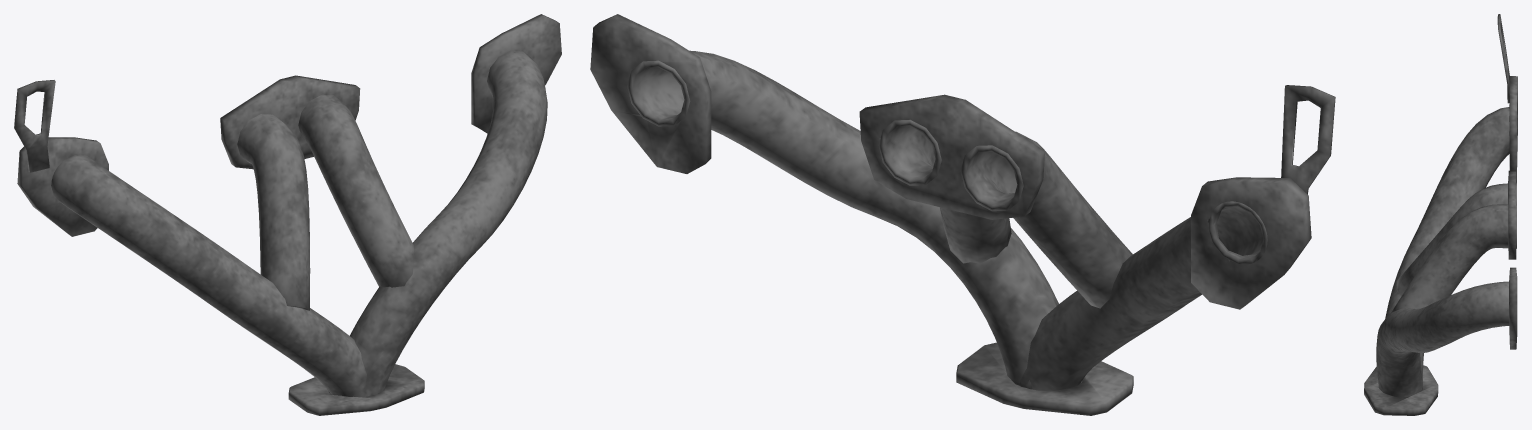
The model's file is exhaust-header.fbx.
3 renders of one model, left to right at view 1: azimuth 30°, elevation 25°; view 2: azimuth 150°, elevation 25°; view 3: azimuth 270°, elevation 25°, orthographic. The views are drawn at different scales.
Parts seen in each view (by area): view 1: exhaust-header; view 2: exhaust-header; view 3: exhaust-header.
Part boxes in pixels (x1=…): exhaust-header: x1=14, y1=14, x2=561, y2=415; exhaust-header: x1=590, y1=14, x2=1335, y2=415; exhaust-header: x1=1364, y1=14, x2=1517, y2=415.
Size of the model in its own units: 37.19 by 21.51 by 11.05.
